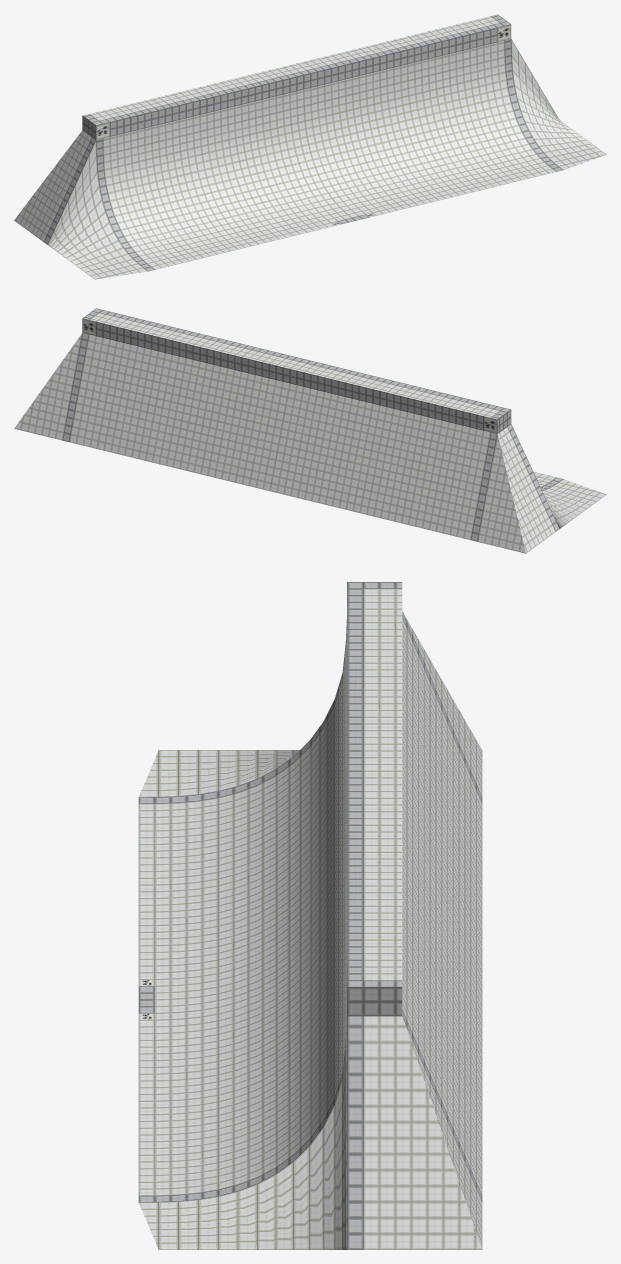
The model's file is Half-U.fbx.
3 views of the same model, one above another, from view 1: azimuth 30°, elevation 25°; view 2: azimuth 150°, elevation 25°; view 3: azimuth 270°, elevation 25° (orthographic). The views are drawn at different scales.
Visible parts, largest first — view 1: Half-U ramp; view 2: Half-U ramp; view 3: Half-U ramp.
Boxes of the visible parts, x1,y1,x2,y2 form: Half-U ramp: (14,14,606,279); Half-U ramp: (14,308,606,553); Half-U ramp: (138,582,482,1249).
Bounding box in the file's own units: 7401 × 1486 × 2150.
